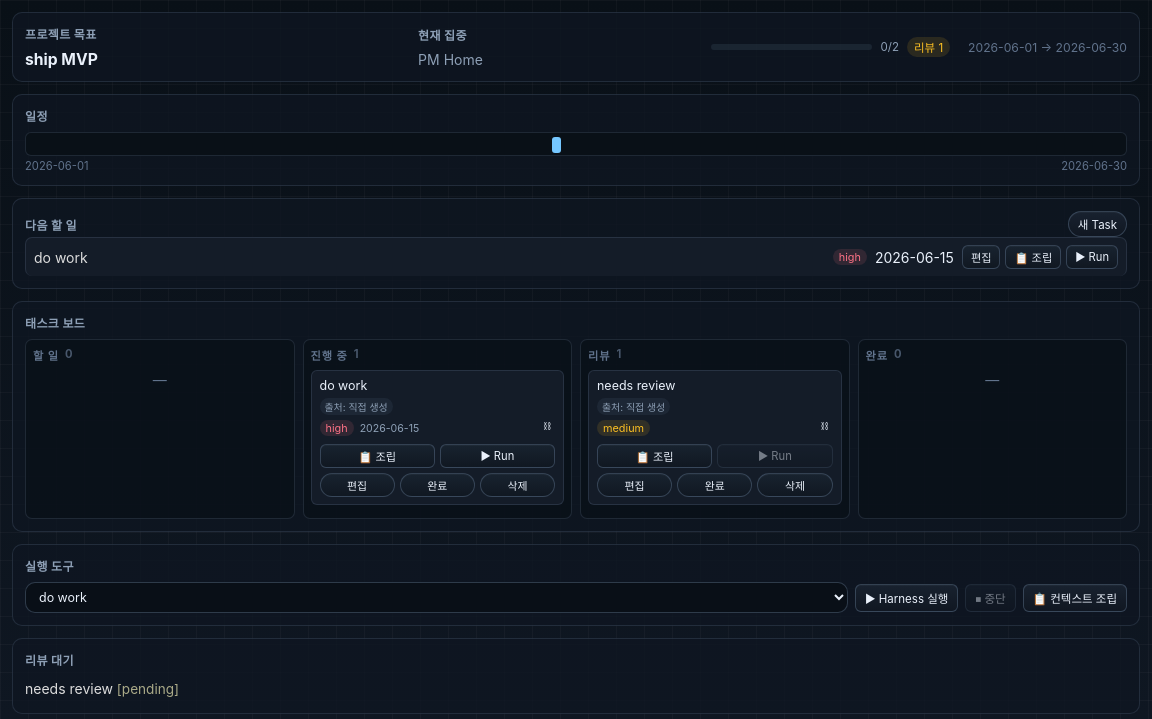
Scenario: PmHome › editing a dependency persists via the bridge, marks the task blocked, and refreshes surfaces
Click the button named "의존성 편집 do work" at (547, 428), box x1=540 y1=419 x2=555 y2=437
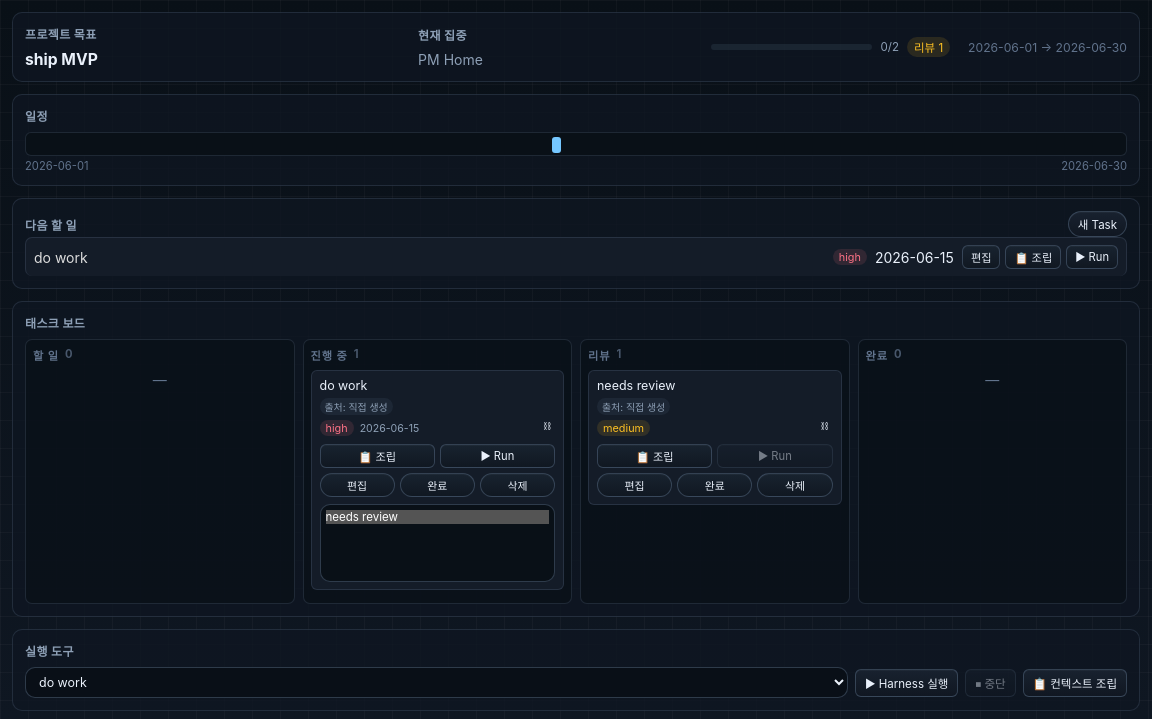
Select "needs review" in the dropdown named "차단 작업 선택 do work" at (437, 543), box x1=320 y1=504 x2=555 y2=582
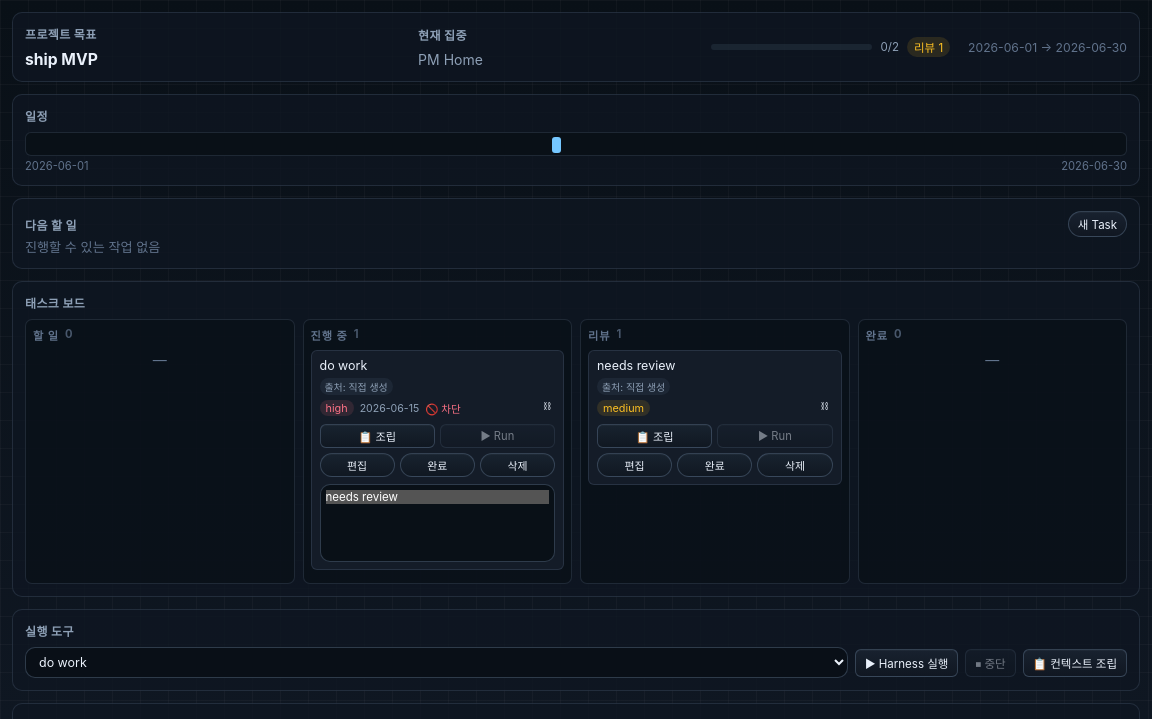
Expected: the text "🚫 차단" is shown, x1=425 y1=400 x2=461 y2=416
